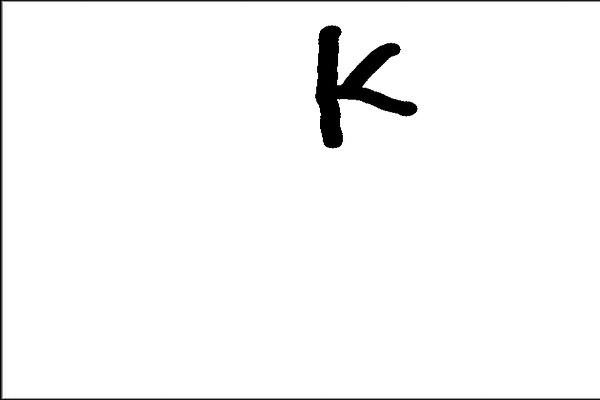K: (306, 17, 424, 152)
